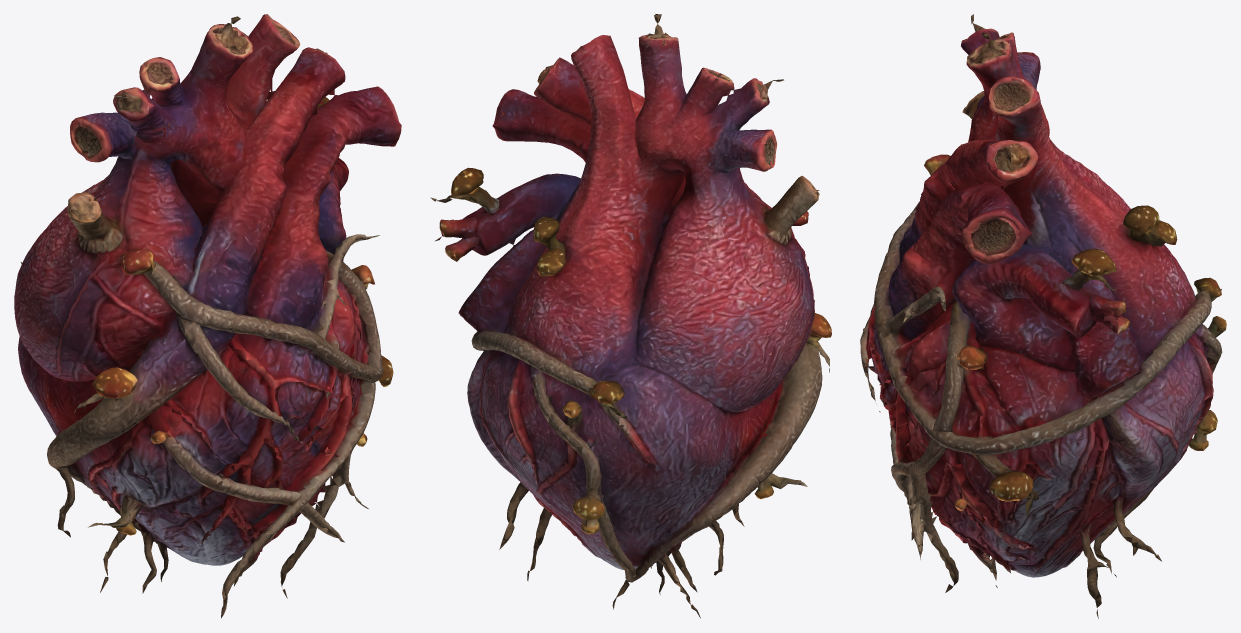
Rendered from heart_model.glb.
3 views of the same model, side by side, from view 1: azimuth 30°, elevation 25°; view 2: azimuth 150°, elevation 25°; view 3: azimuth 270°, elevation 25° (orthographic). The views are drawn at different scales.
Parts seen in each view (by area): view 1: model; view 2: model; view 3: model.
Boxes of the visible parts, x1,y1,x2,y2 form: model: (14, 14, 401, 618); model: (430, 14, 831, 618); model: (860, 14, 1226, 618).
Bounding box in the file's own units: 1.17 × 1.89 × 1.13.
Materials: 1 (1 with a texture image).
